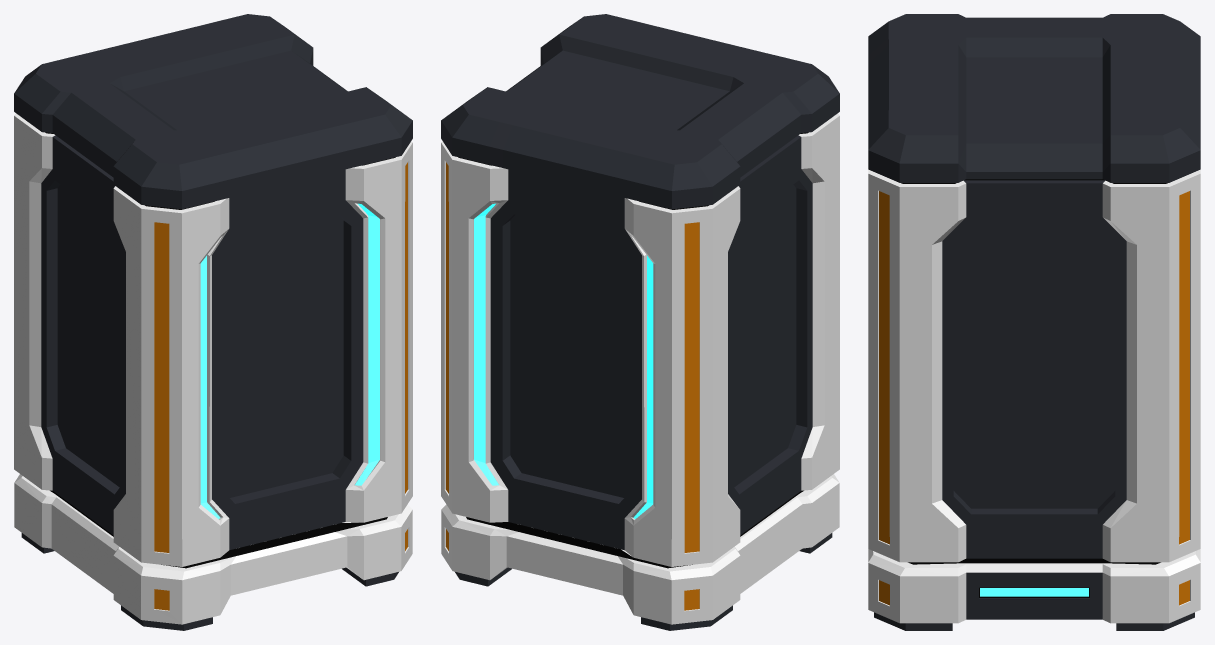
Rendered from SM_Biohazard_Container.fbx.
3 renders of one model, left to right at view 1: azimuth 30°, elevation 25°; view 2: azimuth 150°, elevation 25°; view 3: azimuth 270°, elevation 25°, orthographic. The views are drawn at different scales.
Visible parts, largest first — view 1: SM_Biohazard_Container.001; view 2: SM_Biohazard_Container.001; view 3: SM_Biohazard_Container.001.
Boxes of the visible parts, x1,y1,x2,y2 form: SM_Biohazard_Container.001: (14,14,412,630); SM_Biohazard_Container.001: (441,14,839,630); SM_Biohazard_Container.001: (868,14,1200,630).
Size of the model in its own units: 60 by 97.23 by 60.
